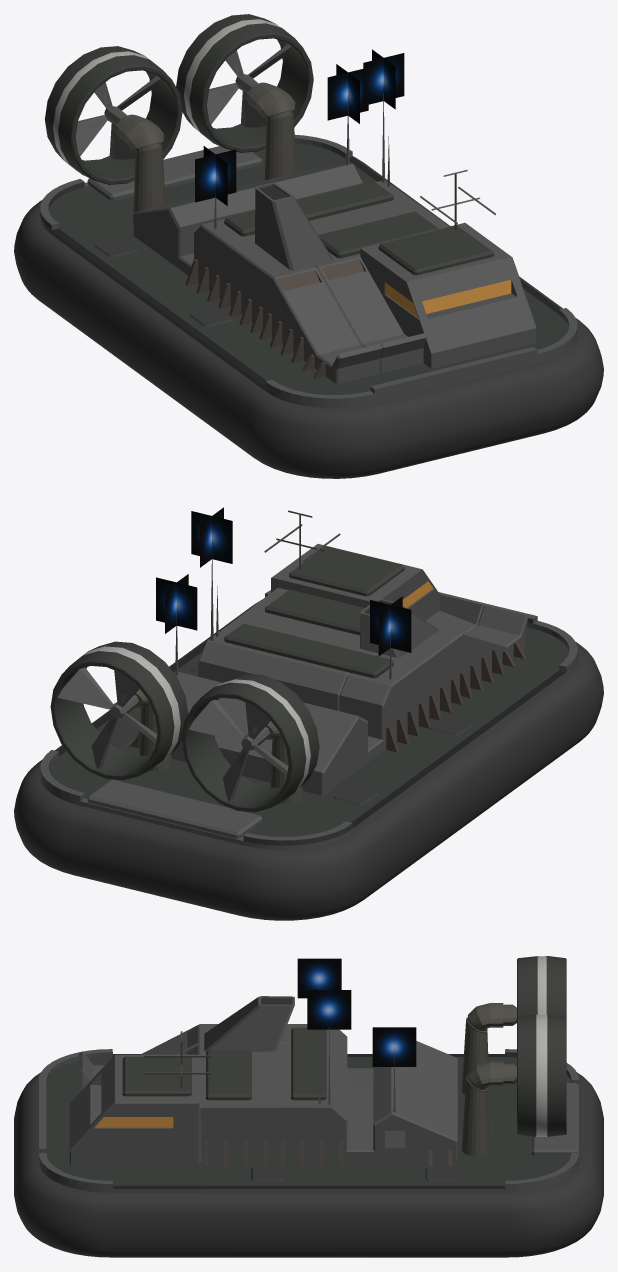
File: model_hovercraft_01.fbx
The picture shows the model from 3 angles, top to bottom: view 1: azimuth 30°, elevation 25°; view 2: azimuth 150°, elevation 25°; view 3: azimuth 270°, elevation 25°; orthographic projection. The views are drawn at different scales.
Visible parts, largest first — view 1: model_hovercraft_01, emissivelight, propeller2, propeller1; view 2: model_hovercraft_01, emissivelight, propeller1, propeller2; view 3: model_hovercraft_01, emissivelight.
Part boxes in pixels (x1,y1,x2,y2): model_hovercraft_01: (14, 14, 603, 478); emissivelight: (195, 49, 511, 317); propeller2: (207, 44, 291, 127); propeller1: (75, 76, 160, 159); model_hovercraft_01: (14, 510, 603, 920); emissivelight: (156, 507, 433, 656); propeller1: (189, 699, 288, 801); propeller2: (58, 667, 157, 769); model_hovercraft_01: (14, 955, 603, 1257); emissivelight: (95, 958, 416, 1127).
Size of the model in its own units: 784 by 566 by 1278.
2 materials, 2 textured.
